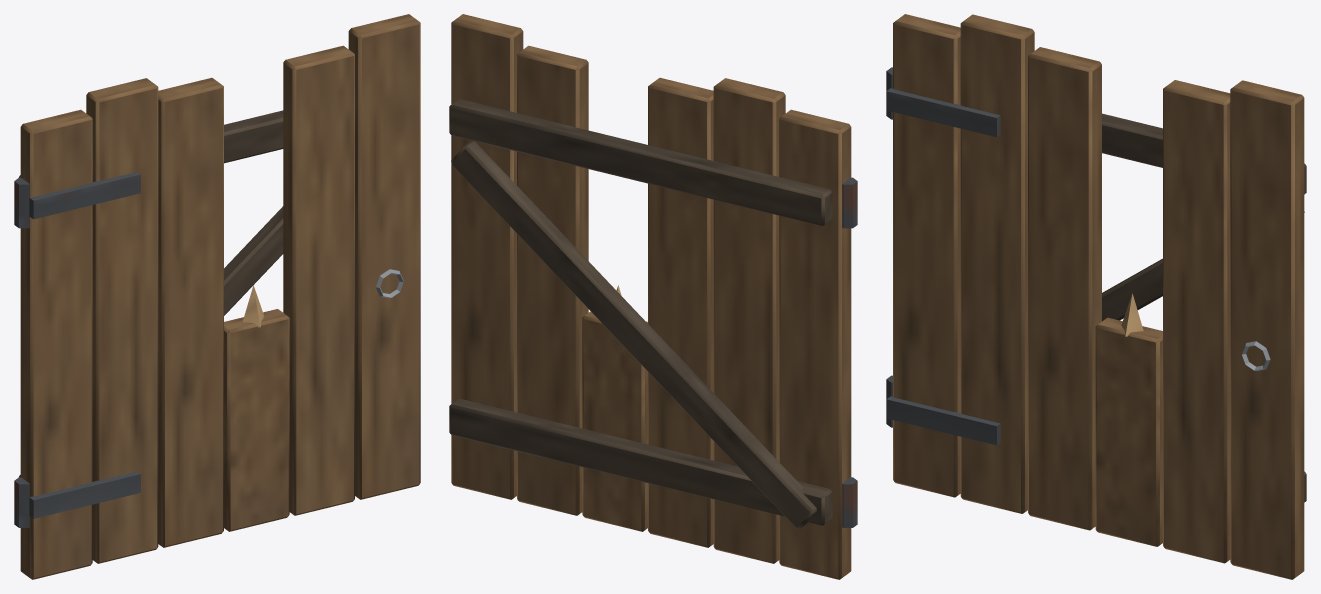
File: SM_Gate_Door_Damaged.fbx
The picture shows the model from 3 angles, left to right: view 1: azimuth 30°, elevation 25°; view 2: azimuth 150°, elevation 25°; view 3: azimuth 330°, elevation 25°; orthographic projection. The views are drawn at different scales.
Visible parts, largest first — view 1: SM_Gate_Door_Damaged; view 2: SM_Gate_Door_Damaged; view 3: SM_Gate_Door_Damaged.
Boxes of the visible parts, x1,y1,x2,y2 form: SM_Gate_Door_Damaged: (14, 14, 420, 579); SM_Gate_Door_Damaged: (449, 14, 857, 579); SM_Gate_Door_Damaged: (886, 14, 1306, 579).
Bounding box in the file's own units: 6.7 × 7.45 × 0.88.
1 material, 1 textured.
